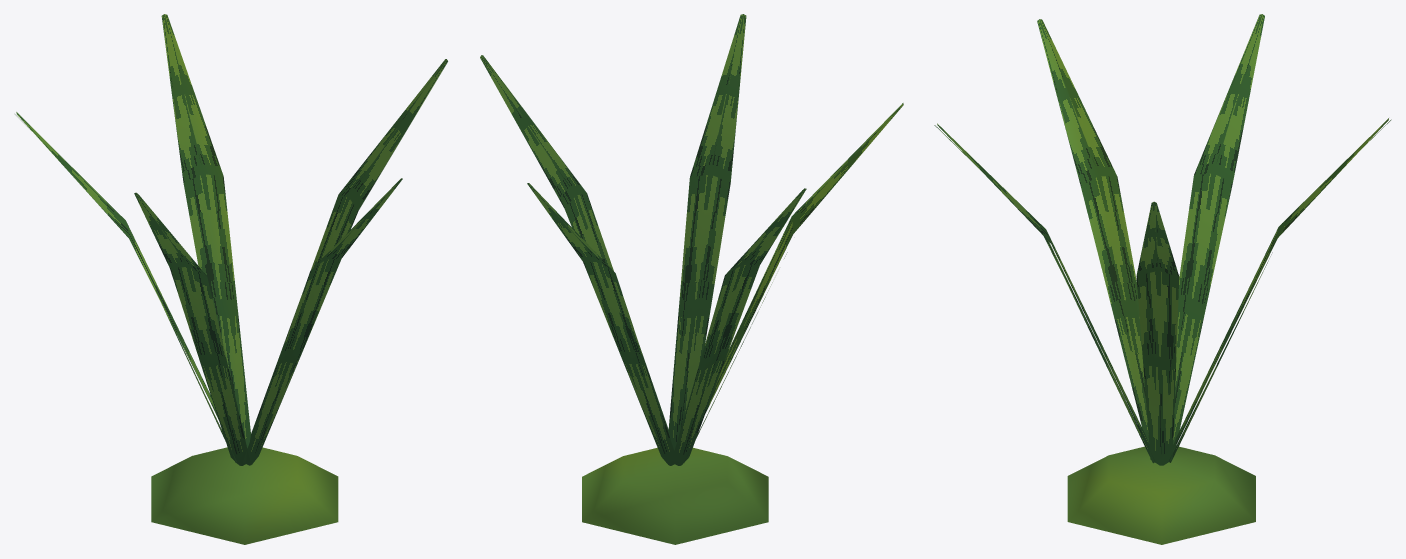
File: wild.fern__spray.glb
The picture shows the model from 3 angles, left to right: view 1: azimuth 30°, elevation 25°; view 2: azimuth 150°, elevation 25°; view 3: azimuth 270°, elevation 25°; orthographic projection.
Visible parts, largest first — view 1: kit_shell_fronds, kit_mound; view 2: kit_shell_fronds, kit_mound; view 3: kit_shell_fronds, kit_mound.
Part boxes in pixels (x1,y1,x2,y2): kit_shell_fronds: [15, 14, 447, 465]; kit_mound: [151, 447, 338, 544]; kit_shell_fronds: [480, 14, 903, 465]; kit_mound: [582, 447, 768, 544]; kit_shell_fronds: [934, 14, 1391, 465]; kit_mound: [1067, 446, 1255, 544].
Size of the model in its own units: 1.56 by 1.55 by 1.62.
2 materials, 2 textured.
